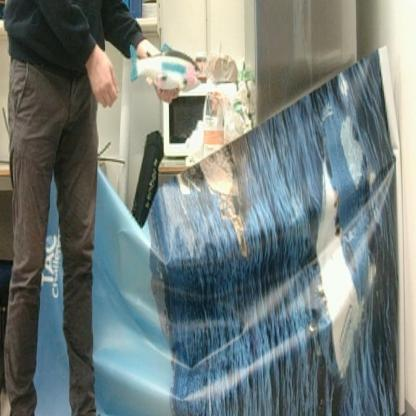rubberfish: (129, 41, 202, 91)
